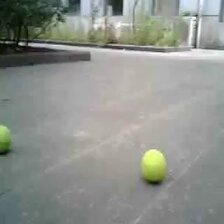tennis: (139, 150, 165, 181), (1, 124, 13, 155)
